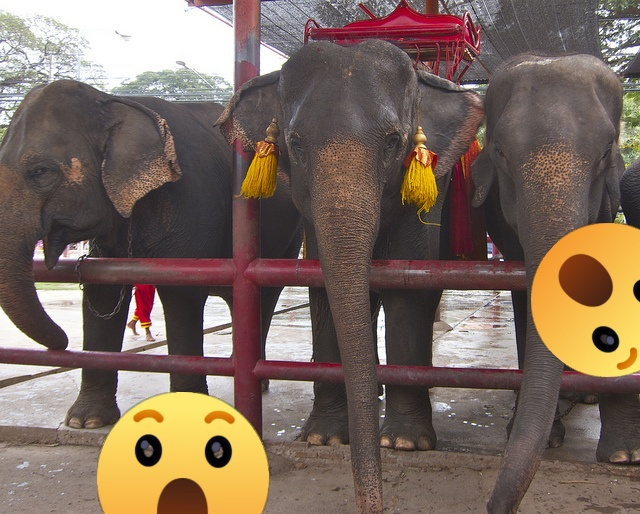wow: (97, 392, 269, 514), (531, 223, 640, 377)
